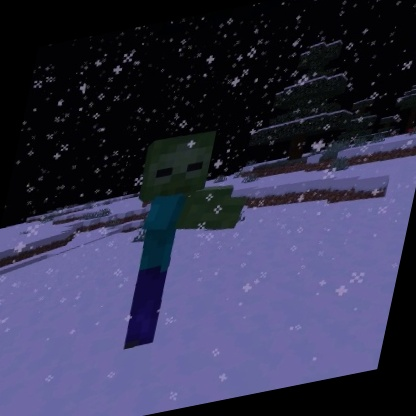zombie: (96, 112, 270, 361)
